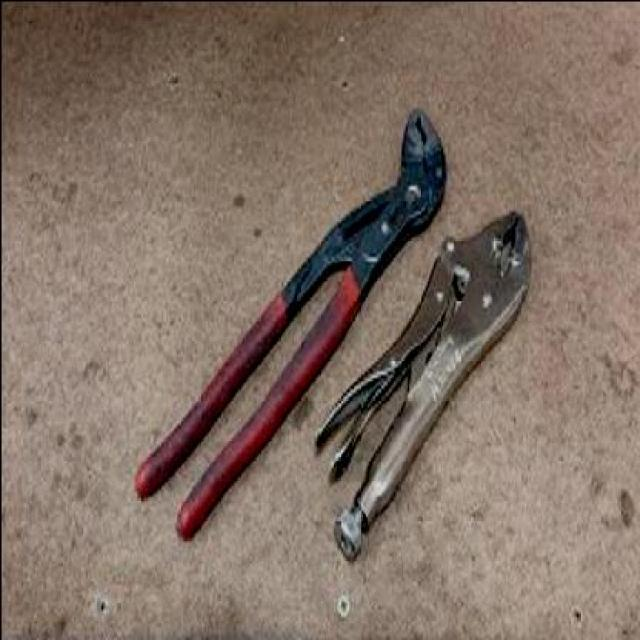pliers: (314, 206, 546, 554)
